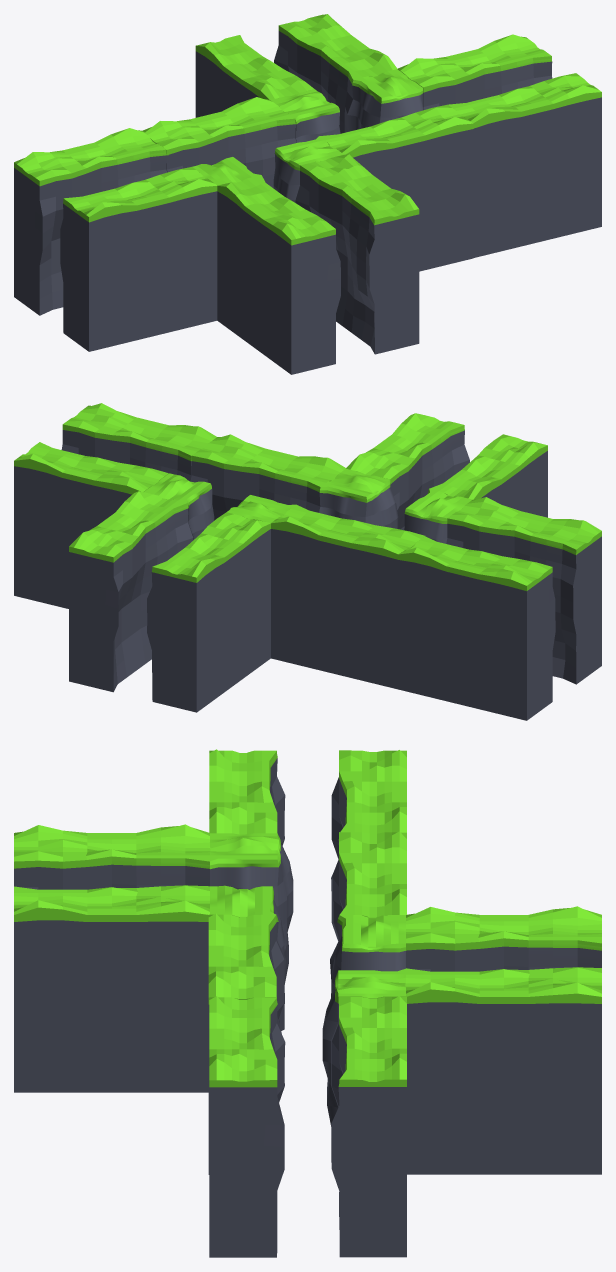
File: BlockSet14.dae
3 renders of one model, top to bottom at view 1: azimuth 30°, elevation 25°; view 2: azimuth 150°, elevation 25°; view 3: azimuth 270°, elevation 25°, orthographic. The views are drawn at different scales.
Visible parts, largest first — view 1: BlockSet14Fin; view 2: BlockSet14Fin; view 3: BlockSet14Fin.
Boxes of the visible parts, x1=… form: BlockSet14Fin: x1=14, y1=14, x2=601, y2=374; BlockSet14Fin: x1=14, y1=403, x2=601, y2=720; BlockSet14Fin: x1=14, y1=749, x2=601, y2=1257.
Size of the model in its own units: 619 by 166 by 467.
